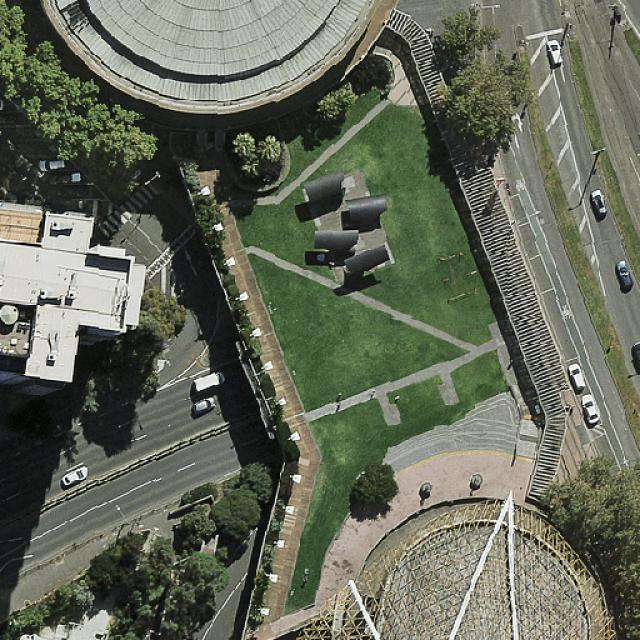Bike-Symbols: (560, 304, 574, 320), (514, 180, 526, 192)
